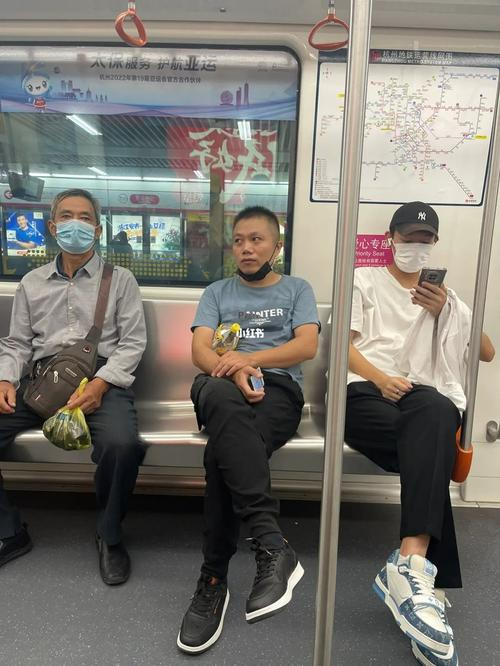mask: (51, 194, 102, 253), (392, 223, 434, 276)
